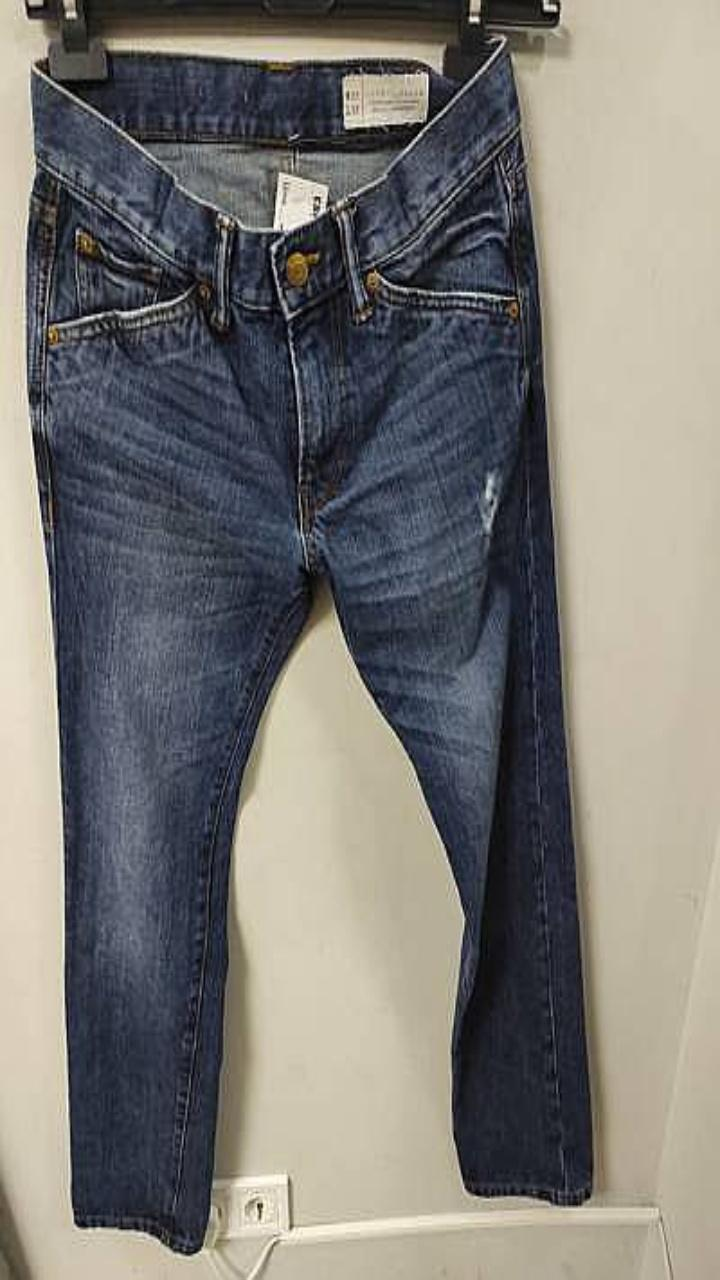Jeans: (27, 36, 590, 1253)
